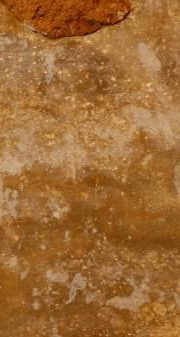Corrosion: (1, 1, 132, 39)
